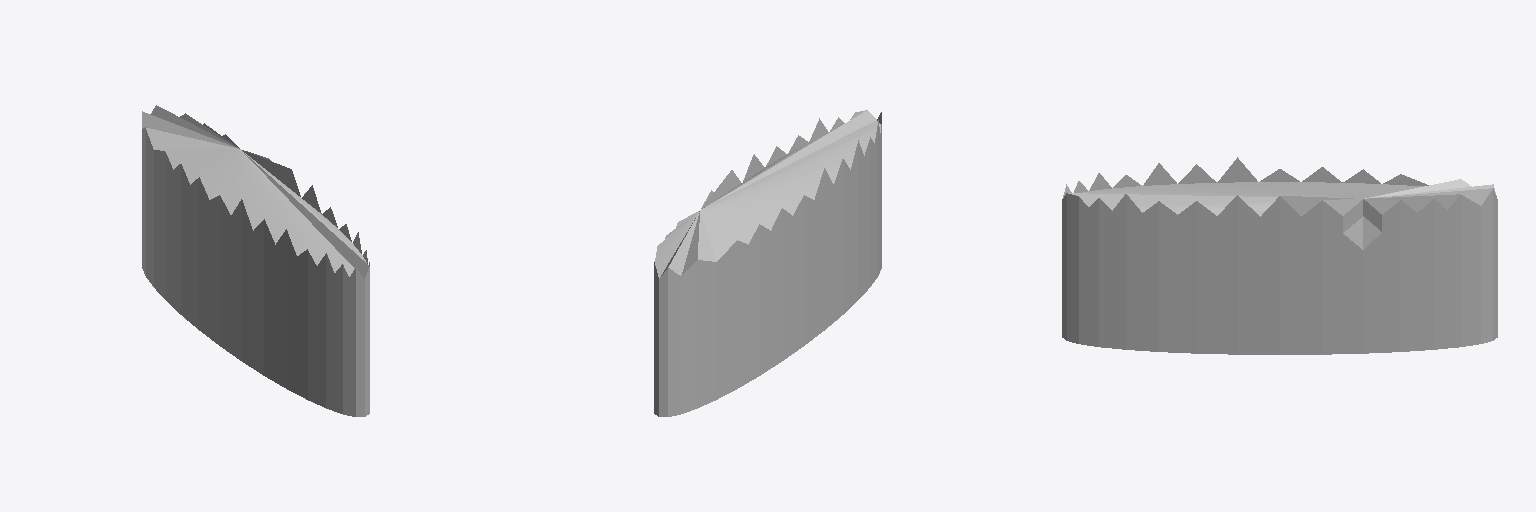
File: firewall.obj
The picture shows the model from 3 angles: view 1: azimuth 30°, elevation 25°; view 2: azimuth 150°, elevation 25°; view 3: azimuth 270°, elevation 25°; orthographic projection.
Visible parts, largest first — view 1: 円柱; view 2: 円柱; view 3: 円柱.
Part boxes in pixels (x1,y1,x2,y2): 円柱: (142,105,369,416); 円柱: (654,110,881,416); 円柱: (1062,157,1497,354).
Size of the model in its own units: 2 by 4.33 by 10.48.